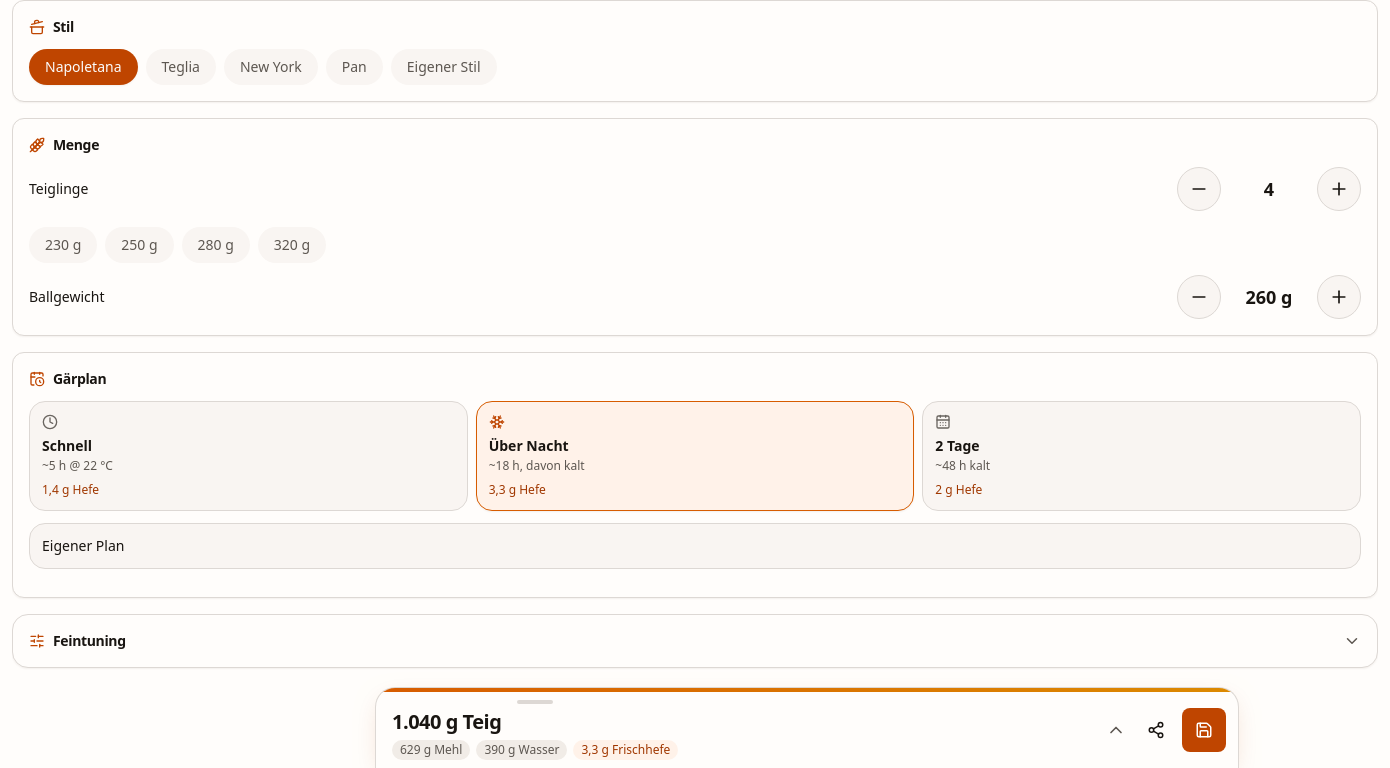
Test: CalculatorPage › updates the total live when the style changes the ball weight
Click the button "Teglia" at (181, 67), box [146, 49, 216, 85]
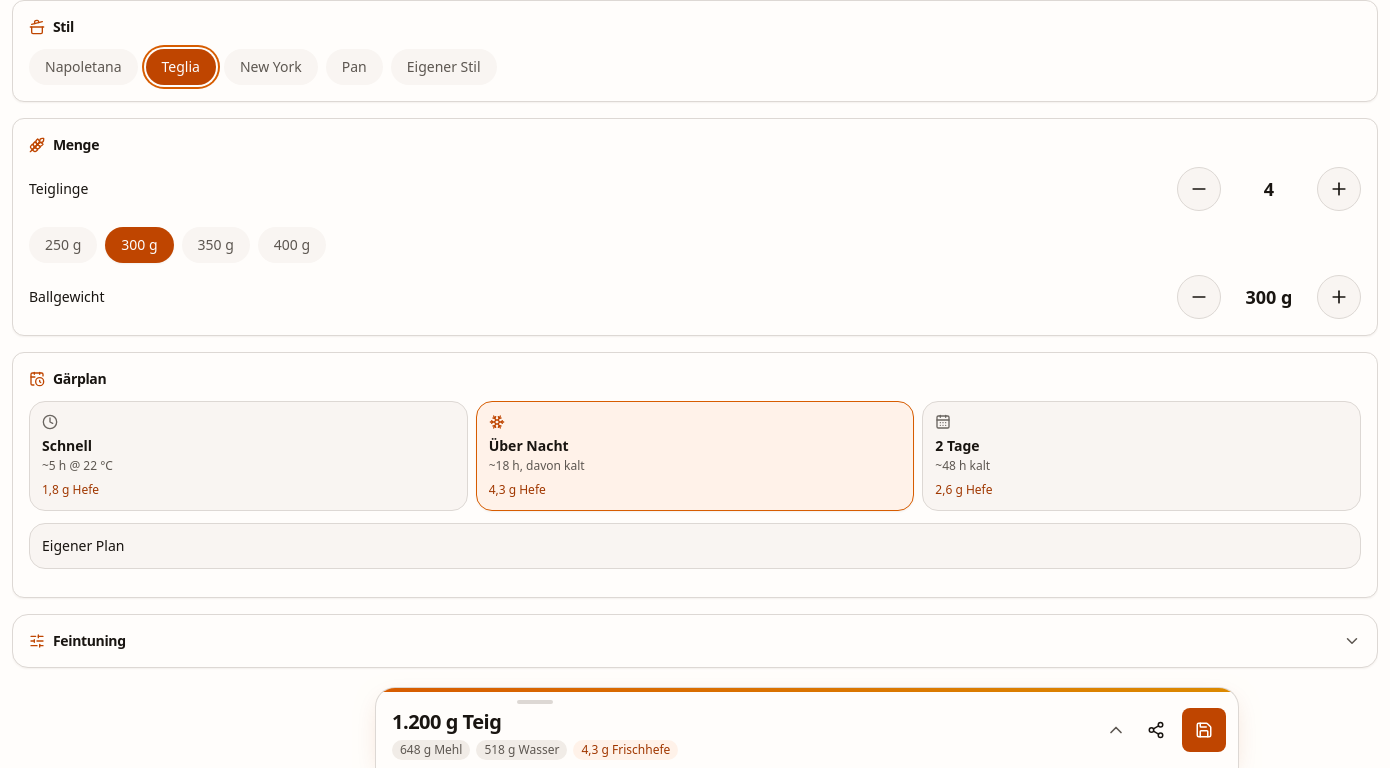
Expected: the text "1.200 g Teig" is shown, [392, 708, 501, 736]
